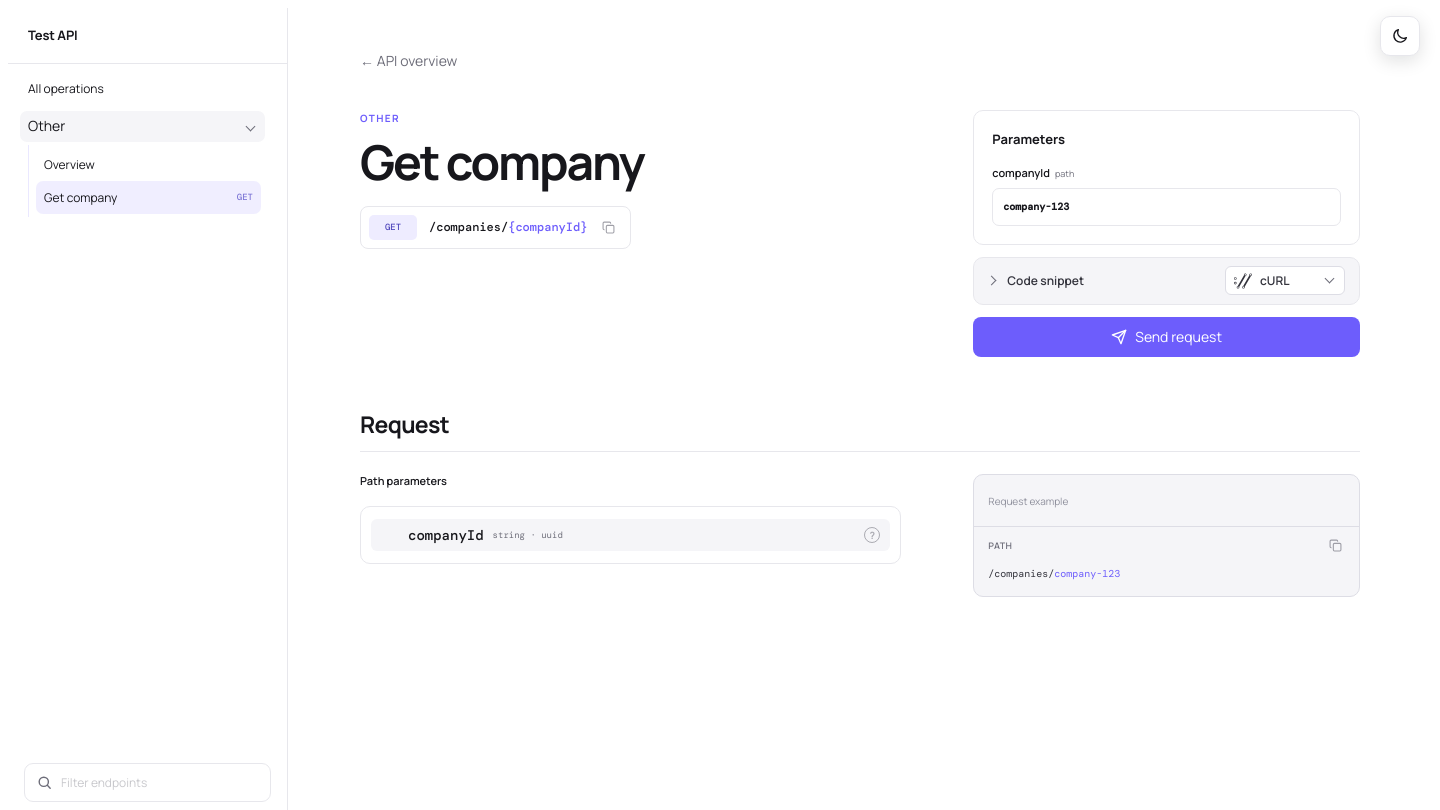
Test: endpoint parameter layout › keeps parameter details compact until requested
Expected: the text "string · uuid" is shown, [493,528,563,542]
Expected: the text "Unique identifier for a company." is not shown
Click the button named "Show details for companyId": coordinates (872, 535) [862,525,882,545]
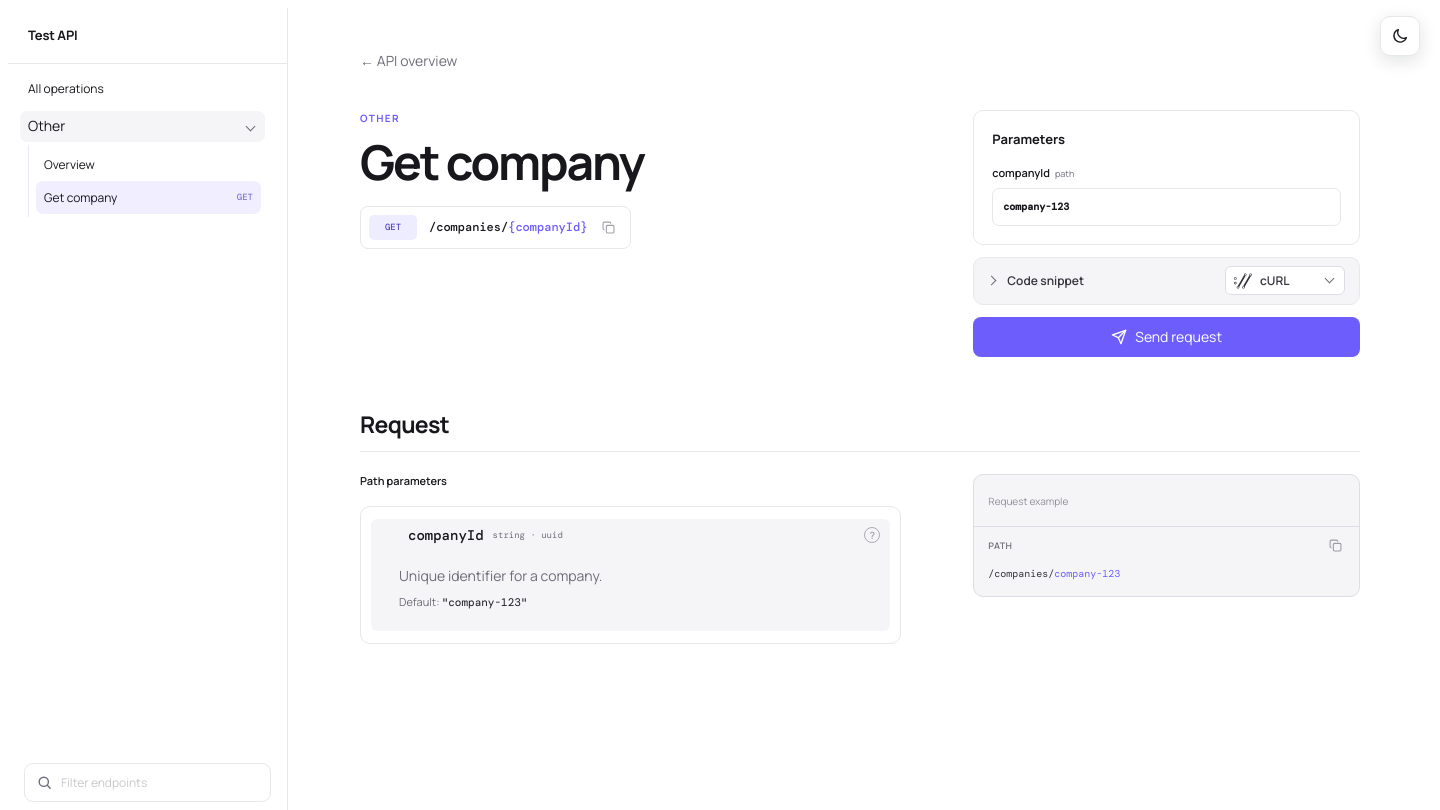
Now the text "Unique identifier for a company." is shown, box [399,566,602,585]
Now the text "Default:" is shown, box [399,594,442,609]
Now the text "\"company-123\"" is shown, box [442,595,528,609]
